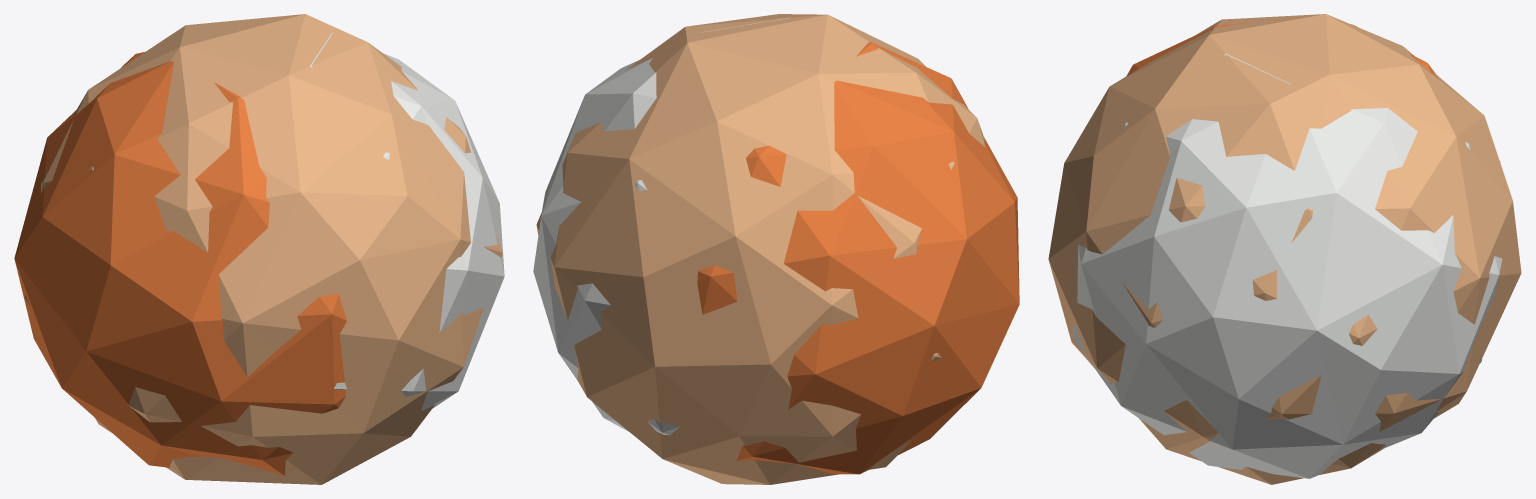
The model's file is Upsilon_Andromeda_b.fbx.
The picture shows the model from 3 angles, left to right: view 1: azimuth 30°, elevation 25°; view 2: azimuth 150°, elevation 25°; view 3: azimuth 270°, elevation 25°; orthographic projection. The views are drawn at different scales.
Visible parts, largest first — view 1: Upsilon_Andromeda_b; view 2: Upsilon_Andromeda_b; view 3: Upsilon_Andromeda_b.
Part boxes in pixels (x1=…): Upsilon_Andromeda_b: x1=14, y1=14, x2=504, y2=484; Upsilon_Andromeda_b: x1=533, y1=14, x2=1019, y2=484; Upsilon_Andromeda_b: x1=1048, y1=14, x2=1521, y2=484.
Bounding box in the file's own units: 206 × 199 × 203.
